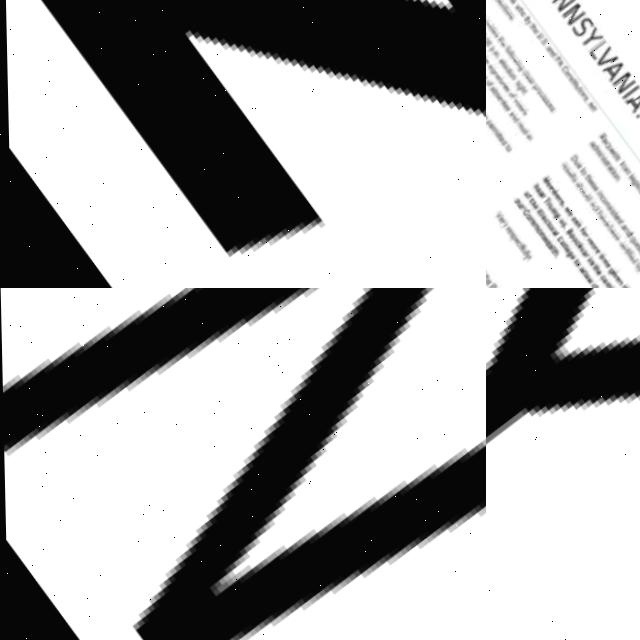0: (486, 45, 492, 53), (486, 41, 490, 50)
A: (599, 64, 627, 92), (622, 95, 640, 123), (554, 66, 565, 75), (577, 256, 587, 265), (544, 248, 554, 257), (617, 231, 626, 240), (544, 51, 552, 60), (587, 148, 596, 156), (525, 82, 533, 91), (597, 221, 605, 229), (505, 116, 513, 124), (568, 222, 576, 230), (535, 197, 543, 205), (605, 172, 612, 180), (494, 79, 501, 87), (488, 91, 495, 99), (518, 133, 525, 140), (576, 273, 583, 280), (549, 235, 556, 242), (636, 194, 640, 202)
B: (562, 234, 573, 244), (604, 232, 615, 241), (549, 196, 559, 205), (489, 93, 498, 102), (523, 21, 530, 29), (633, 270, 640, 277)
C: (519, 213, 531, 225), (553, 241, 564, 250), (559, 71, 569, 80), (616, 247, 624, 256), (514, 246, 522, 255), (520, 75, 528, 83), (502, 71, 510, 79), (498, 7, 505, 15), (597, 202, 604, 210), (571, 247, 578, 255), (595, 281, 603, 288), (541, 225, 548, 232)
D: (627, 264, 640, 275), (589, 149, 600, 159), (548, 57, 558, 67), (509, 121, 519, 131), (582, 201, 592, 210), (499, 145, 509, 154), (487, 30, 495, 39), (623, 238, 632, 246), (569, 162, 577, 170)
E: (540, 0, 566, 8), (609, 238, 618, 247), (607, 155, 615, 164), (496, 4, 504, 13), (590, 192, 598, 201), (631, 249, 639, 258), (499, 69, 508, 77), (496, 63, 504, 72), (607, 235, 615, 244), (560, 170, 568, 179), (502, 111, 510, 120), (565, 217, 573, 226), (543, 187, 551, 196), (552, 200, 560, 209), (535, 213, 543, 222), (538, 220, 546, 229), (562, 253, 570, 262), (529, 210, 538, 218), (496, 221, 504, 230), (511, 243, 520, 251), (531, 34, 539, 42), (599, 145, 607, 153), (627, 182, 635, 190), (499, 47, 507, 55), (523, 80, 531, 88), (586, 186, 594, 194), (611, 221, 619, 229), (573, 169, 581, 177), (601, 227, 609, 235), (500, 89, 508, 97), (603, 270, 611, 278), (532, 193, 540, 201), (593, 277, 601, 285), (567, 260, 575, 268), (542, 245, 550, 253), (504, 233, 512, 241), (508, 4, 515, 12), (492, 0, 500, 7), (490, 34, 497, 42), (626, 262, 634, 269), (587, 111, 594, 118), (618, 251, 625, 258), (518, 111, 525, 118), (500, 109, 507, 116), (495, 101, 502, 108), (592, 256, 599, 263), (497, 142, 504, 149), (611, 282, 619, 288), (486, 127, 492, 135), (486, 63, 490, 72), (486, 284, 491, 288)
F: (508, 99, 518, 108), (503, 50, 512, 58), (517, 250, 526, 258), (486, 86, 493, 95), (576, 233, 585, 240), (624, 259, 631, 266), (616, 168, 624, 174), (525, 200, 531, 205)
G: (628, 185, 638, 195), (604, 274, 614, 284), (486, 72, 496, 81), (563, 257, 573, 266), (514, 89, 523, 98), (517, 71, 524, 79), (488, 0, 496, 4)
H: (593, 216, 604, 226), (549, 255, 560, 265), (574, 189, 584, 199), (530, 189, 540, 199), (497, 42, 507, 51), (529, 31, 538, 39), (517, 13, 525, 22), (528, 206, 536, 215), (583, 182, 591, 190), (519, 93, 526, 100), (591, 273, 598, 280), (486, 279, 490, 288), (486, 59, 489, 67)
I: (617, 91, 640, 109), (501, 11, 510, 20), (596, 261, 605, 270), (492, 135, 501, 144), (599, 162, 608, 170), (622, 256, 631, 264), (608, 277, 617, 285), (576, 94, 584, 101), (596, 158, 604, 165), (488, 70, 496, 77), (609, 177, 617, 183), (488, 29, 494, 35), (607, 215, 613, 221), (515, 88, 521, 94), (506, 75, 512, 81), (539, 101, 546, 106), (571, 87, 577, 92), (543, 105, 549, 110), (514, 66, 520, 71), (595, 198, 601, 203), (525, 140, 531, 145), (521, 135, 527, 140), (584, 264, 590, 269), (633, 190, 639, 195), (637, 256, 640, 262)
K: (572, 228, 582, 238), (574, 249, 581, 256)
L: (586, 44, 612, 70), (537, 217, 545, 224), (578, 276, 586, 283), (547, 252, 555, 259), (507, 57, 515, 63), (582, 201, 590, 207), (579, 278, 587, 284), (521, 256, 529, 262), (522, 257, 530, 263), (507, 55, 514, 61), (568, 180, 574, 186), (626, 181, 633, 186), (496, 4, 503, 9), (523, 78, 530, 83), (635, 193, 640, 199), (499, 66, 505, 71), (521, 137, 527, 142), (562, 251, 568, 256), (560, 251, 566, 256), (552, 238, 558, 243)
M: (539, 182, 550, 192), (622, 175, 631, 184), (592, 154, 601, 163), (514, 127, 523, 136), (491, 55, 499, 64), (547, 192, 555, 201), (599, 265, 607, 274), (584, 244, 592, 253), (547, 215, 556, 223), (530, 229, 538, 238), (490, 134, 498, 142), (526, 224, 534, 232)
N: (0, 288, 486, 640), (609, 77, 636, 105), (560, 8, 586, 35), (549, 0, 577, 21), (620, 234, 629, 243), (584, 265, 593, 274), (578, 98, 586, 107), (505, 16, 513, 25), (612, 181, 620, 190), (545, 109, 553, 118), (601, 208, 610, 216), (595, 199, 603, 208), (613, 224, 621, 233), (587, 207, 595, 216), (491, 76, 499, 85), (536, 236, 544, 245), (546, 55, 554, 63), (612, 242, 620, 250), (508, 119, 516, 127), (514, 68, 522, 75), (525, 141, 532, 149), (497, 103, 504, 111), (564, 79, 571, 86), (597, 161, 604, 168), (509, 80, 516, 87), (512, 85, 519, 92), (614, 286, 622, 288)
O: (502, 12, 511, 21), (578, 236, 587, 245), (565, 239, 574, 248), (571, 268, 580, 277), (504, 53, 512, 62), (599, 206, 608, 214), (589, 210, 597, 219), (513, 104, 521, 113), (505, 96, 514, 104), (588, 249, 596, 258), (569, 243, 577, 252), (521, 197, 529, 206), (580, 279, 588, 288), (556, 246, 564, 255), (544, 228, 552, 237), (562, 76, 570, 84), (518, 17, 526, 25), (578, 176, 586, 184), (507, 77, 515, 85), (512, 204, 520, 212), (533, 234, 541, 242), (523, 219, 531, 227), (576, 96, 584, 103), (610, 178, 617, 186), (543, 106, 550, 114), (534, 95, 542, 102), (508, 59, 515, 67), (578, 195, 585, 203), (504, 152, 511, 160), (619, 172, 626, 179), (486, 84, 491, 92), (486, 23, 489, 31), (637, 259, 640, 267), (598, 285, 606, 288), (638, 278, 640, 286)
P: (605, 0, 626, 9), (507, 239, 517, 249), (551, 62, 561, 71), (486, 50, 495, 59), (530, 89, 538, 98), (551, 219, 559, 228), (486, 124, 491, 133)
Q: (599, 148, 610, 157), (627, 243, 635, 251)
R: (596, 140, 606, 150), (580, 260, 588, 268), (488, 130, 496, 138), (507, 1, 514, 9), (532, 92, 539, 100), (555, 203, 562, 211), (547, 233, 554, 241), (503, 230, 510, 238), (528, 86, 535, 93), (559, 168, 566, 175), (520, 114, 527, 121), (499, 87, 506, 94), (581, 240, 588, 247), (538, 201, 545, 208), (517, 211, 524, 218), (618, 170, 624, 175), (604, 171, 610, 176), (620, 254, 626, 259), (591, 254, 597, 259), (543, 209, 549, 214), (499, 226, 505, 231), (486, 21, 488, 29)
S: (569, 21, 596, 46), (538, 44, 548, 53), (566, 81, 574, 90), (588, 189, 596, 198), (503, 92, 511, 101), (556, 205, 564, 214), (600, 165, 608, 173), (548, 112, 556, 120), (492, 38, 500, 46), (607, 216, 615, 224), (573, 188, 581, 196), (633, 252, 640, 261), (605, 212, 612, 220), (570, 183, 577, 191), (493, 98, 500, 106), (571, 226, 578, 234), (586, 108, 593, 115), (581, 103, 588, 110), (612, 163, 619, 170), (610, 159, 617, 166), (633, 190, 640, 197), (508, 21, 515, 28), (539, 102, 546, 109), (563, 174, 570, 181), (520, 117, 527, 124), (558, 229, 565, 236), (507, 237, 514, 244), (486, 68, 492, 75)
T: (589, 112, 598, 121), (591, 213, 600, 222), (569, 264, 578, 273), (494, 40, 504, 48), (607, 174, 616, 182), (615, 227, 624, 235), (541, 203, 549, 212), (602, 167, 610, 174), (520, 95, 528, 102), (621, 255, 629, 262), (516, 109, 524, 116), (595, 259, 602, 267), (495, 138, 502, 146), (502, 149, 509, 157), (589, 270, 596, 278), (548, 253, 556, 260), (575, 92, 582, 99), (571, 87, 578, 94), (528, 28, 535, 35), (577, 174, 584, 181), (610, 219, 617, 226), (505, 73, 512, 80), (496, 81, 503, 88), (499, 106, 506, 113), (526, 203, 533, 210), (543, 226, 551, 232), (517, 249, 525, 255), (501, 11, 508, 17), (570, 85, 576, 91), (569, 181, 575, 187), (635, 254, 640, 261), (613, 162, 619, 167), (583, 182, 589, 187), (496, 140, 502, 145), (504, 0, 511, 2), (638, 197, 640, 204)
U: (534, 39, 545, 48), (604, 151, 612, 160), (628, 245, 636, 254), (564, 176, 572, 185), (580, 197, 588, 206), (544, 211, 553, 219), (571, 166, 579, 174), (514, 207, 522, 215), (519, 253, 526, 261), (572, 90, 579, 97), (497, 85, 504, 92), (504, 0, 511, 6)
V: (590, 52, 619, 81), (492, 215, 505, 227), (575, 252, 583, 261), (599, 224, 607, 232), (555, 225, 563, 233), (536, 97, 543, 105), (512, 103, 519, 110), (610, 280, 617, 287), (486, 26, 491, 33)
W: (513, 9, 521, 18), (561, 213, 570, 221), (510, 63, 518, 71), (539, 242, 547, 250), (583, 283, 591, 288)
Y: (486, 288, 640, 640), (576, 32, 604, 60), (522, 25, 532, 34), (521, 258, 530, 267), (632, 273, 640, 283), (500, 228, 507, 235)
Z: (0, 0, 486, 288)
